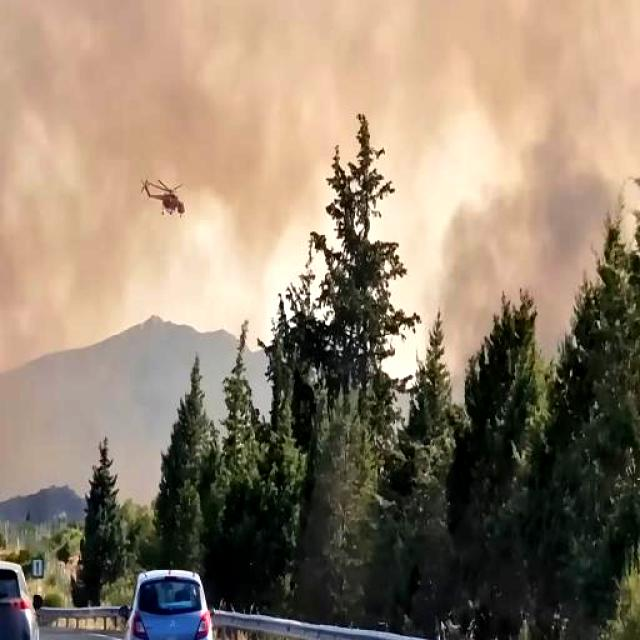drone: (141, 179, 185, 219)
